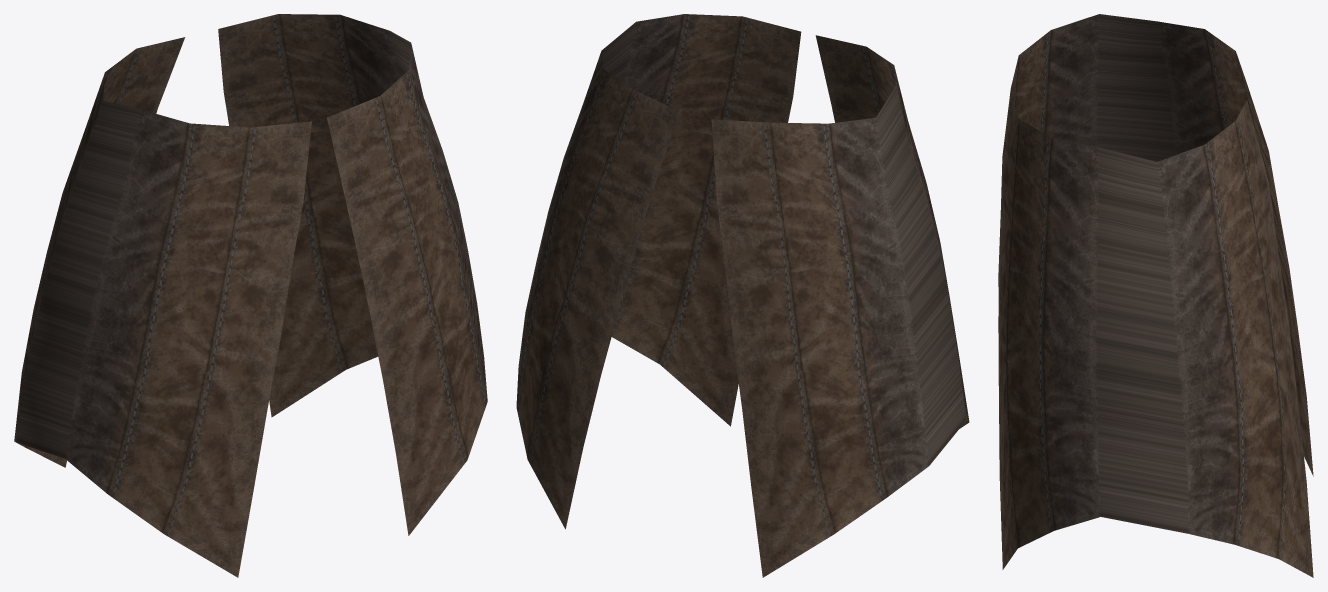
The model's file is clo_dunland_wulf_scalemail_heavy.fbx.
3 views of the same model, side by side, from view 1: azimuth 30°, elevation 25°; view 2: azimuth 150°, elevation 25°; view 3: azimuth 270°, elevation 25° (orthographic). The views are drawn at different scales.
Parts seen in each view (by area): view 1: clo_dunland_wulf_scalemail_heavy; view 2: clo_dunland_wulf_scalemail_heavy; view 3: clo_dunland_wulf_scalemail_heavy.
Boxes of the visible parts, x1=… form: clo_dunland_wulf_scalemail_heavy: x1=14, y1=14, x2=487, y2=577; clo_dunland_wulf_scalemail_heavy: x1=516, y1=14, x2=969, y2=577; clo_dunland_wulf_scalemail_heavy: x1=998, y1=14, x2=1313, y2=577.
Bounding box in the file's own units: 0.5926 × 0.3753 × 0.5887.
1 material, 1 textured.
